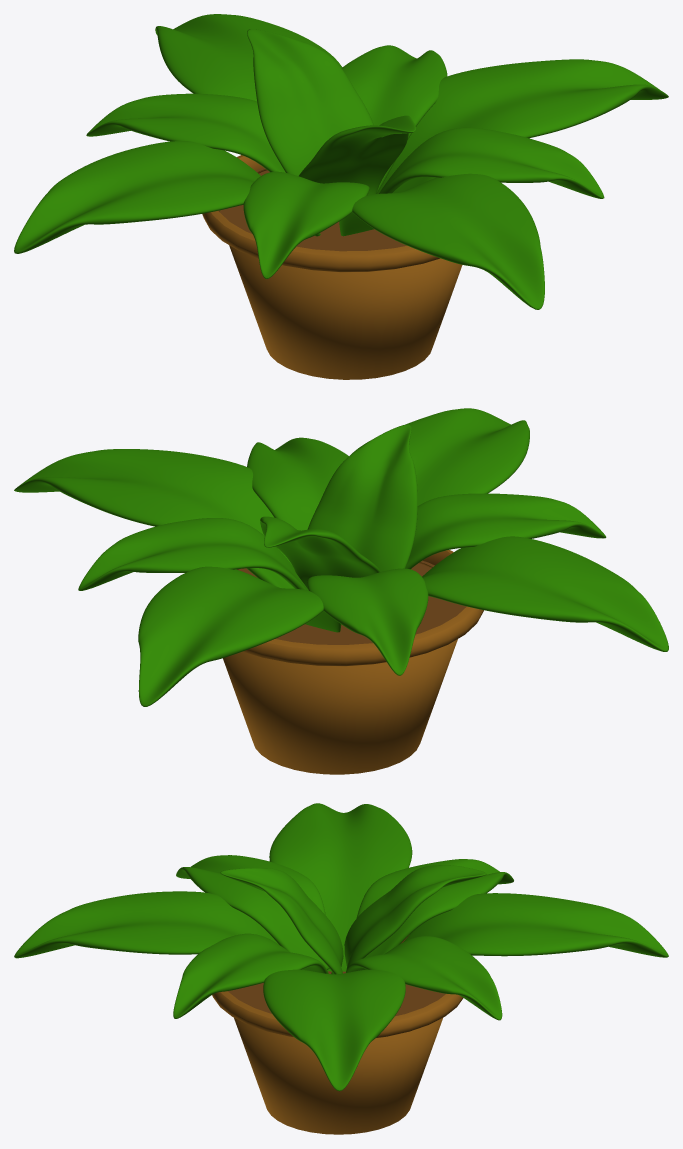
Rendered from planta.fbx.
3 renders of one model, top to bottom at view 1: azimuth 30°, elevation 25°; view 2: azimuth 150°, elevation 25°; view 3: azimuth 270°, elevation 25°, orthographic. The views are drawn at different scales.
Parts seen in each view (by area): view 1: Cylinder, Plane.003, Plane, Plane.002, Plane.010, Plane.004, Plane.005, Plane.001, Plane.007, Plane.006, Plane.008, Cylinder.001; view 2: Cylinder, Plane.003, Plane.001, Plane.002, Plane.008, Plane, Plane.006, Plane.007, Plane.005, Plane.004, Plane.010, Cylinder.001; view 3: Cylinder, Plane.001, Plane, Plane.003, Plane.002, Plane.004, Plane.006, Plane.007, Plane.010, Plane.008, Plane.005, Cylinder.001.
Boxes of the visible parts, bbox=[...] form: Cylinder: bbox=[202, 155, 462, 379]; Plane.003: bbox=[14, 141, 320, 253]; Plane: bbox=[339, 173, 544, 309]; Plane.002: bbox=[377, 59, 668, 193]; Plane.010: bbox=[247, 29, 373, 175]; Plane.004: bbox=[379, 127, 604, 198]; Plane.005: bbox=[86, 93, 285, 172]; Plane.001: bbox=[155, 14, 342, 101]; Plane.007: bbox=[243, 171, 369, 278]; Plane.006: bbox=[342, 45, 447, 193]; Plane.008: bbox=[299, 115, 415, 194]; Cylinder.001: bbox=[219, 167, 406, 251]; Cylinder: bbox=[223, 550, 483, 774]; Plane.003: bbox=[422, 536, 668, 651]; Plane.001: bbox=[138, 566, 341, 706]; Plane.002: bbox=[14, 449, 294, 588]; Plane.008: bbox=[307, 424, 417, 571]; Plane: bbox=[351, 408, 529, 505]; Plane.006: bbox=[78, 518, 308, 590]; Plane.007: bbox=[405, 493, 606, 569]; Plane.005: bbox=[307, 568, 428, 675]; Plane.004: bbox=[247, 437, 348, 530]; Plane.010: bbox=[260, 516, 380, 588]; Cylinder.001: bbox=[238, 560, 466, 644]; Cylinder: bbox=[212, 935, 463, 1134]; Plane.001: bbox=[403, 893, 668, 957]; Plane: bbox=[14, 891, 277, 958]; Plane.003: bbox=[269, 803, 412, 971]; Plane.002: bbox=[263, 969, 405, 1091]; Plane.004: bbox=[173, 933, 328, 1018]; Plane.006: bbox=[346, 936, 502, 1020]; Plane.007: bbox=[176, 855, 329, 969]; Plane.010: bbox=[344, 865, 486, 971]; Plane.008: bbox=[220, 868, 343, 974]; Plane.005: bbox=[356, 859, 513, 957]; Cylinder.001: bbox=[228, 971, 445, 1016].
Size of the model in its own units: 691 by 268 by 691.
